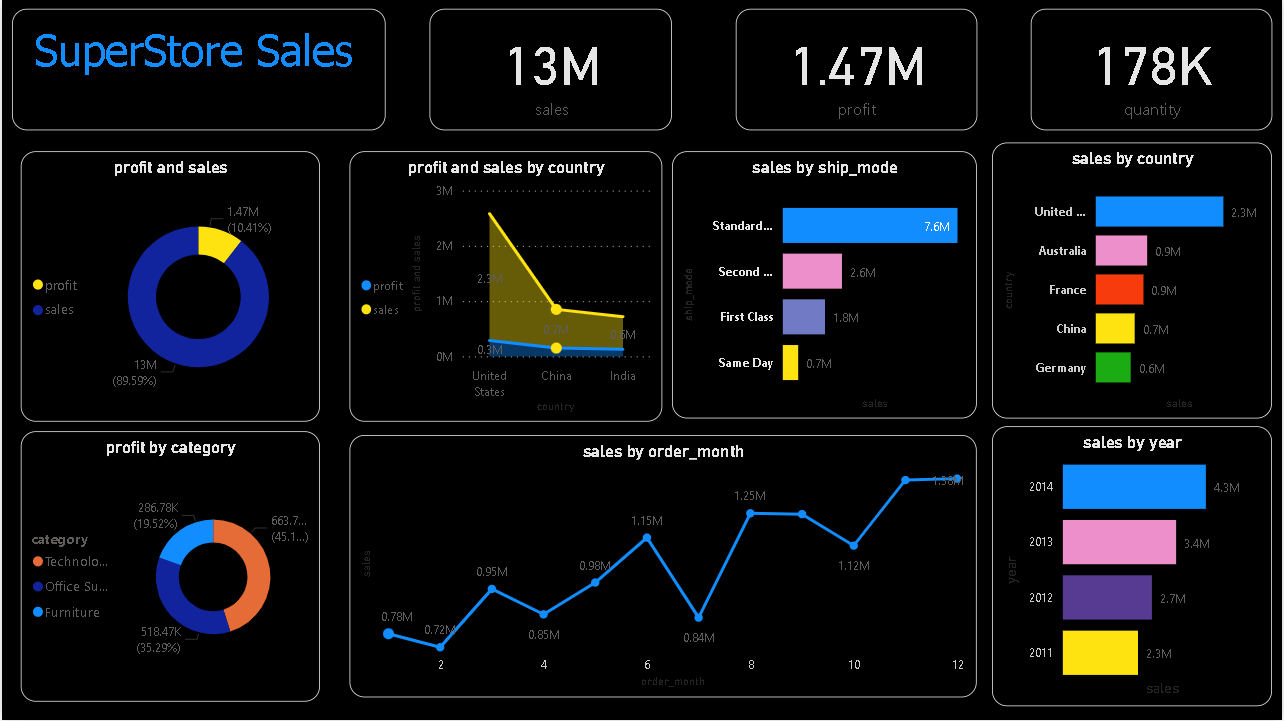

The page's visual inventory and layout, read from the dashboard file:
{"tool":"powerbi","page":{"name":"Page 1","canvas":[1280,720],"ordinal":0},"visuals":[{"type":"barChart","fields":{"Category":["SuperStoreOrders11.year"],"Y":["Sum(SuperStoreOrders11.sales)"]},"box":[990.5,426.7,279.9,279.9],"z":0},{"type":"barChart","fields":{"Category":["SuperStoreOrders11.country"],"Y":["Sum(SuperStoreOrders11.sales)"]},"box":[990.5,142.7,279.9,275.8],"z":1},{"type":"lineChart","title":"sales by order_month","fields":{"Category":["SuperStoreOrders11.order_month"],"Y":["Sum(SuperStoreOrders11.sales)"]},"box":[347.1,434.9,627,262],"z":2},{"type":"donutChart","fields":{"Category":["SuperStoreOrders11.category"],"Y":["Sum(SuperStoreOrders11.profit)"]},"box":[19.2,430.8,299.1,270.3],"z":3},{"type":"donutChart","fields":{"Y":["Sum(SuperStoreOrders11.profit)","Sum(SuperStoreOrders11.sales)"]},"box":[19.2,150.9,299.1,270.3],"z":4},{"type":"card","fields":{"Values":["Sum(SuperStoreOrders11.sales)"]},"box":[427.5,8.8,242.5,121.2],"z":5},{"type":"textbox","box":[10,8.8,373.8,121.2],"z":6},{"type":"card","fields":{"Values":["Sum(SuperStoreOrders11.profit)"]},"box":[733.8,8.8,241.2,121.2],"z":7},{"type":"card","fields":{"Values":["Sum(SuperStoreOrders11.quantity)"]},"box":[1028.8,8.8,241.2,121.2],"z":8},{"type":"stackedAreaChart","fields":{"Category":["SuperStoreOrders11.country"],"Y":["Sum(SuperStoreOrders11.profit)","Sum(SuperStoreOrders11.sales)"]},"box":[347.1,150.9,312.8,270.3],"z":9},{"type":"barChart","fields":{"Category":["SuperStoreOrders11.ship_mode"],"Y":["Sum(SuperStoreOrders11.sales)"]},"box":[669.5,150.9,304.6,267.5],"z":10}]}

Visuals, with their boxes in screenshot pixels (x1, y1, x2, y2), scaled from the page's 1280x720 canvas onto the 1284x721 screenshot:
barChart - SuperStoreOrders11.year x Sum(SuperStoreOrders11.sales): {"left": 994, "top": 427, "right": 1274, "bottom": 708}
barChart - SuperStoreOrders11.country x Sum(SuperStoreOrders11.sales): {"left": 994, "top": 143, "right": 1274, "bottom": 419}
"sales by order_month" lineChart: {"left": 348, "top": 436, "right": 977, "bottom": 698}
donutChart - SuperStoreOrders11.category x Sum(SuperStoreOrders11.profit): {"left": 19, "top": 431, "right": 319, "bottom": 702}
donutChart - Sum(SuperStoreOrders11.profit) x Sum(SuperStoreOrders11.sales): {"left": 19, "top": 151, "right": 319, "bottom": 422}
card - Sum(SuperStoreOrders11.sales): {"left": 429, "top": 9, "right": 672, "bottom": 130}
textbox: {"left": 10, "top": 9, "right": 385, "bottom": 130}
card - Sum(SuperStoreOrders11.profit): {"left": 736, "top": 9, "right": 978, "bottom": 130}
card - Sum(SuperStoreOrders11.quantity): {"left": 1032, "top": 9, "right": 1274, "bottom": 130}
stackedAreaChart - SuperStoreOrders11.country x Sum(SuperStoreOrders11.profit): {"left": 348, "top": 151, "right": 662, "bottom": 422}
barChart - SuperStoreOrders11.ship_mode x Sum(SuperStoreOrders11.sales): {"left": 672, "top": 151, "right": 977, "bottom": 419}
